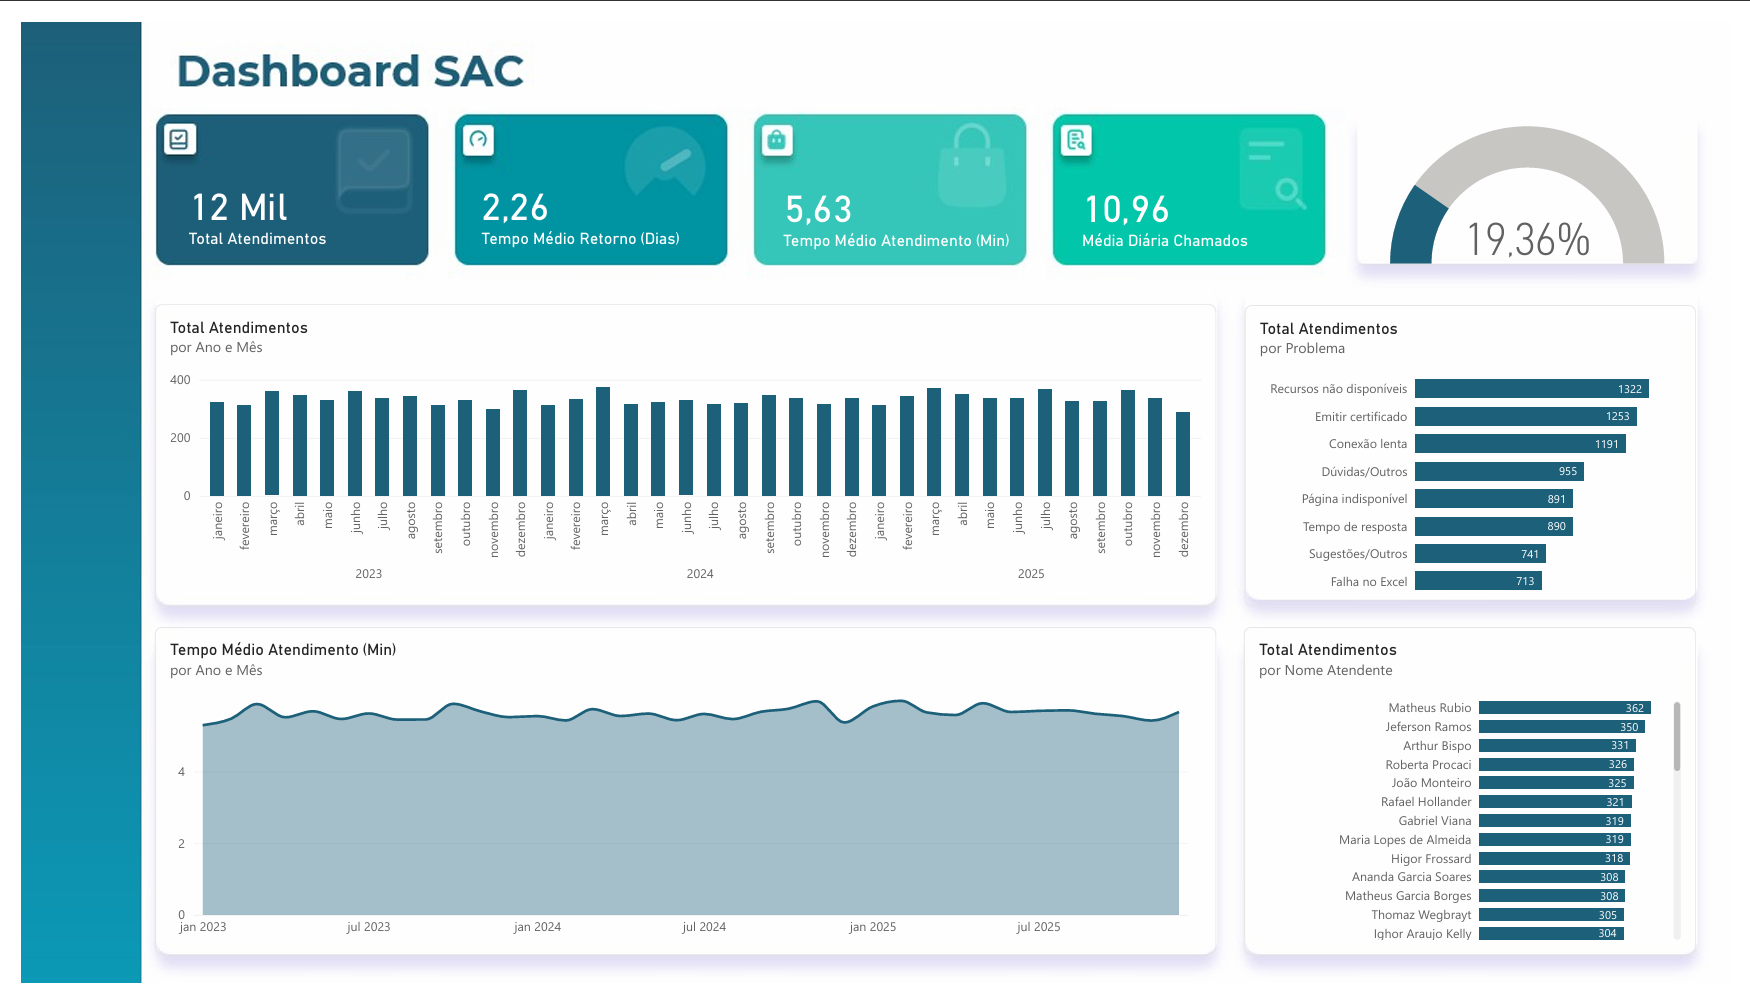

The dashboard page shown, as its layout file describes it:
{"tool":"powerbi","page":{"name":"Página 1","canvas":[1920,1080],"ordinal":0},"visuals":[{"type":"cardVisual","fields":{"Data":["fOcorrencias.Tempo Médio Retorno (Dias)"]},"box":[501,143.2,300,150],"z":0},{"type":"cardVisual","fields":{"Data":["fOcorrencias.Tempo Médio Atendimento (Min)"]},"box":[839.8,145.5,300,150],"z":1000},{"type":"cardVisual","fields":{"Data":["fOcorrencias.Média Diária Chamados"]},"box":[1176.3,145.5,300,150],"z":2000},{"type":"gauge","fields":{"Y":["fOcorrencias.% Cancelados"]},"box":[1502.7,116.7,379.3,154.7],"z":3000},{"type":"cardVisual","fields":{"Data":["fOcorrencias.Total Atendimentos"]},"box":[171.8,143.2,300,150],"z":4000},{"type":"columnChart","fields":{"Category":["fOcorrencias.Data Chamado.Variação.Hierarquia de datas.Ano","fOcorrencias.Data Chamado.Variação.Hierarquia de datas.Mês"],"Y":["fOcorrencias.Total Atendimentos"]},"box":[150.3,317.3,1193,338.8],"z":5000},{"type":"areaChart","fields":{"Category":["fOcorrencias.Data Chamado.Variação.Hierarquia de datas.Ano","fOcorrencias.Data Chamado.Variação.Hierarquia de datas.Mês"],"Y":["fOcorrencias.Tempo Médio Atendimento (Min)"]},"box":[150.3,679.7,1193.1,369.8],"z":6000},{"type":"barChart","fields":{"Category":["dProblema.Problema"],"Y":["fOcorrencias.Total Atendimentos"]},"box":[1375.3,317.9,506.7,339.2],"z":7000},{"type":"barChart","fields":{"Category":["dSuporte.Nome Atendente"],"Y":["fOcorrencias.Total Atendimentos"]},"box":[1373.9,679.7,508.1,369.8],"z":8000}]}

Visuals, with their boxes in screenshot pixels (x1, y1, x2, y2), scaled from the page's 1920x1080 canvas onto the 1750x1005 screenshot:
cardVisual - fOcorrencias.Tempo Médio Retorno (Dias): bbox=(457, 133, 730, 273)
cardVisual - fOcorrencias.Tempo Médio Atendimento (Min): bbox=(765, 135, 1039, 275)
cardVisual - fOcorrencias.Média Diária Chamados: bbox=(1072, 135, 1346, 275)
gauge - fOcorrencias.% Cancelados: bbox=(1370, 109, 1715, 253)
cardVisual - fOcorrencias.Total Atendimentos: bbox=(157, 133, 430, 273)
columnChart - fOcorrencias.Data Chamado.Variação.Hierarquia de datas.Ano x fOcorrencias.Data Chamado.Variação.Hierarquia de datas.Mês: bbox=(137, 295, 1224, 611)
areaChart - fOcorrencias.Data Chamado.Variação.Hierarquia de datas.Ano x fOcorrencias.Data Chamado.Variação.Hierarquia de datas.Mês: bbox=(137, 632, 1224, 977)
barChart - dProblema.Problema x fOcorrencias.Total Atendimentos: bbox=(1254, 296, 1715, 611)
barChart - dSuporte.Nome Atendente x fOcorrencias.Total Atendimentos: bbox=(1252, 632, 1715, 977)
